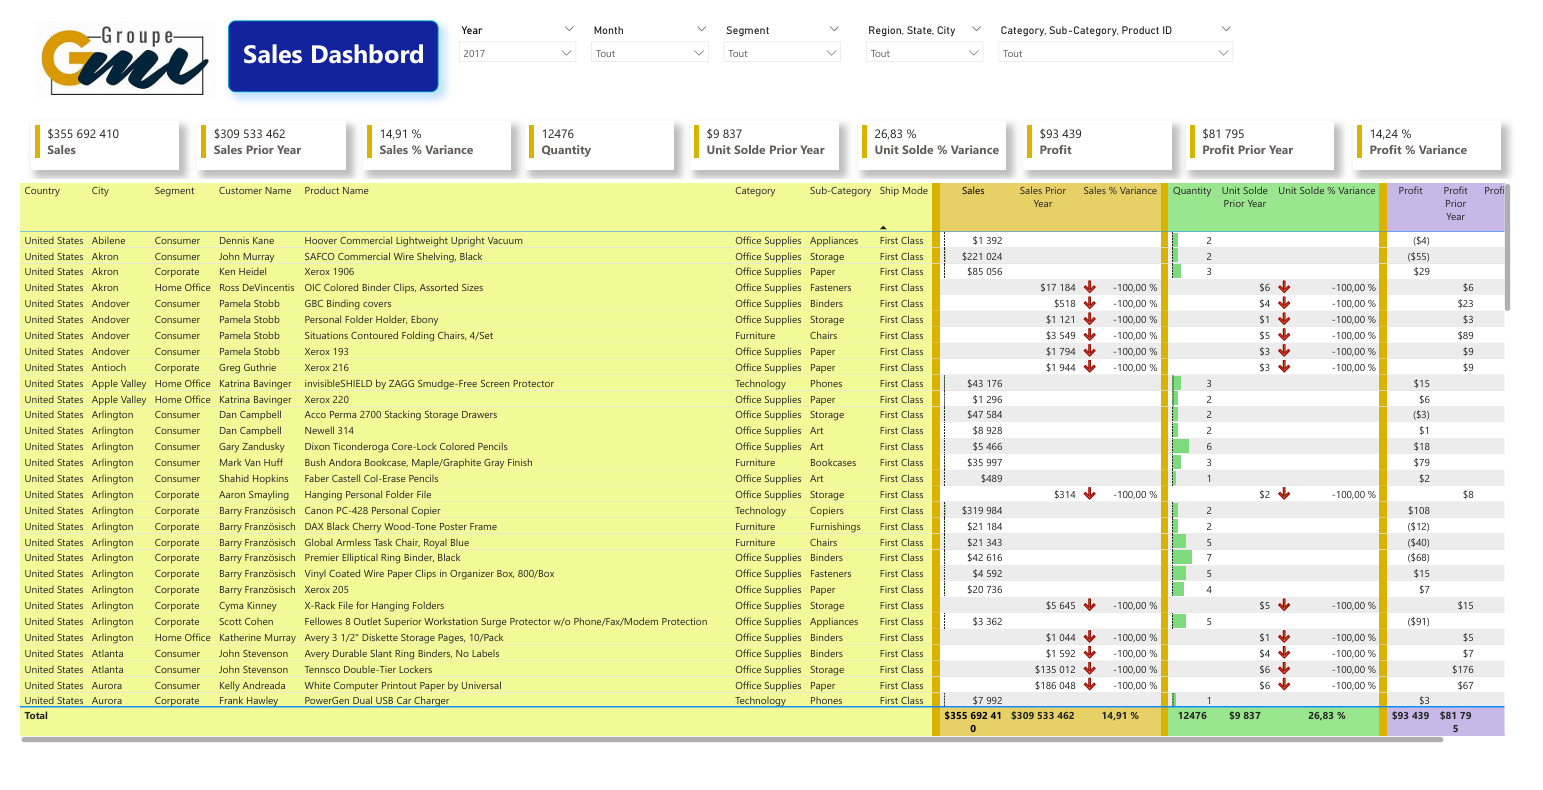

The dashboard page shown, as its layout file describes it:
{"tool":"powerbi","page":{"name":"Analyse Globale des Ventes","canvas":[2000,1000],"ordinal":4},"visuals":[{"type":"multiRowCard","fields":{"Values":["Mesure.Sales"]},"box":[20,137.1,195,64.3],"z":0},{"type":"multiRowCard","fields":{"Values":["Mesure.Quantity"]},"box":[672.9,137.1,195.7,64.3],"z":1000},{"type":"multiRowCard","fields":{"Values":["Mesure.Profit"]},"box":[1331.4,137.1,195.7,64],"z":2000},{"type":"slicer","fields":{"Values":["Calendar.Month.Variation.Date Hierarchy.Month"]},"box":[750,2.5,175,77.5],"z":3000},{"type":"slicer","fields":{"Values":["data.Segment"]},"box":[925,2.5,175,77.5],"z":4000},{"type":"slicer","fields":{"Values":["Dim_location.Region","Dim_location.State","Dim_location.City"]},"box":[1112.5,2.5,175,77.5],"z":5000},{"type":"slicer","fields":{"Values":["Dim_product.Category","Dim_product.Sub-Category","Dim_product.Product ID"]},"box":[1287.5,2.5,330,77.5],"z":6000},{"type":"textbox","title":" ","box":[280,2.5,277.5,95],"z":7000},{"type":"image","box":[0,0,290,112.5],"z":8000},{"type":"multiRowCard","fields":{"Values":["Mesure.Sales Prior Year"]},"box":[240,137.1,195.7,64.3],"z":9000},{"type":"multiRowCard","fields":{"Values":["Mesure.Sales % Variance"]},"box":[458.6,137.1,195.7,64.3],"z":10000},{"type":"multiRowCard","fields":{"Values":["Mesure.Unit Solde Prior Year"]},"box":[891.4,137.1,195.7,64.3],"z":11000},{"type":"multiRowCard","fields":{"Values":["Mesure.Unit Solde % Variance"]},"box":[1112.9,137.1,195,64],"z":12000},{"type":"multiRowCard","fields":{"Values":["Mesure.Profit Prior Year"]},"box":[1545.7,137.1,195.7,64],"z":13000},{"type":"multiRowCard","fields":{"Values":["Mesure.Profit % Variance"]},"box":[1767.1,137.1,195,64],"z":14000},{"type":"tableEx","fields":{"Values":["Dim_location.Country","Dim_location.City","Dim_segment.Segment","Dim_customer.Customer Name","Dim_product.Product Name","Dim_product.Category","Dim_product.Sub-Category","data.Ship Mode","Mesure.Measure","Mesure.Sales","Mesure.Sales Prior Year","Mesure.Sales % Variance"]},"box":[0,213.3,1980,750],"z":15000},{"type":"slicer","fields":{"Values":["Calendar.Year"]},"box":[575,2.5,175,77.5],"z":16000},{"type":"actionButton","box":[0,0,261.7,113.3],"z":17000}]}

Visuals, with their boxes on the page's 2000x1000 design canvas (x1, y1, x2, y2). These are canvas units, not pixel positions in the 1543x790 screenshot, which may show the page scaled, cropped or inside an application window:
multiRowCard - Mesure.Sales: 20,137,215,201
multiRowCard - Mesure.Quantity: 673,137,869,201
multiRowCard - Mesure.Profit: 1331,137,1527,201
slicer - Calendar.Month.Variation.Date Hierarchy.Month: 750,2,925,80
slicer - data.Segment: 925,2,1100,80
slicer - Dim_location.Region x Dim_location.State: 1112,2,1288,80
slicer - Dim_product.Category x Dim_product.Sub-Category: 1288,2,1618,80
" " textbox: 280,2,558,98
image: 0,0,290,112
multiRowCard - Mesure.Sales Prior Year: 240,137,436,201
multiRowCard - Mesure.Sales % Variance: 459,137,654,201
multiRowCard - Mesure.Unit Solde Prior Year: 891,137,1087,201
multiRowCard - Mesure.Unit Solde % Variance: 1113,137,1308,201
multiRowCard - Mesure.Profit Prior Year: 1546,137,1741,201
multiRowCard - Mesure.Profit % Variance: 1767,137,1962,201
tableEx - Dim_location.Country x Dim_location.City: 0,213,1980,963
slicer - Calendar.Year: 575,2,750,80
actionButton: 0,0,262,113
